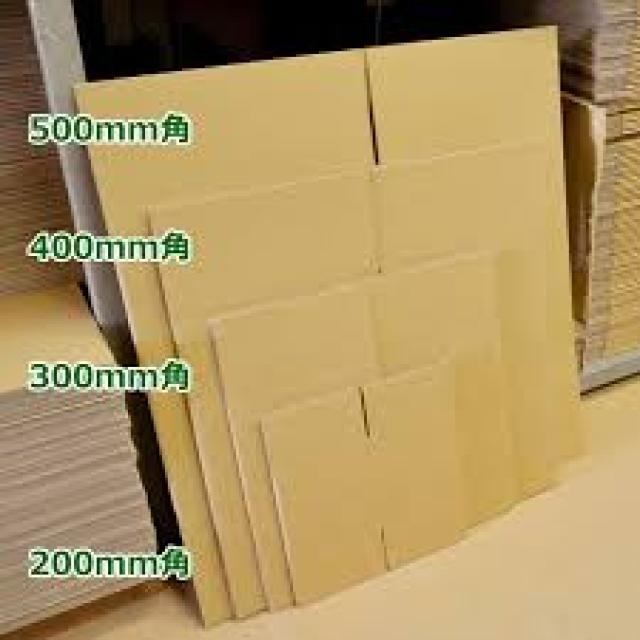cardboard: (71, 23, 583, 617), (140, 137, 558, 637), (208, 256, 512, 623), (0, 281, 159, 637), (256, 358, 466, 606), (0, 0, 82, 290), (558, 114, 637, 364), (0, 282, 105, 396), (532, 0, 637, 108), (558, 91, 598, 321)
